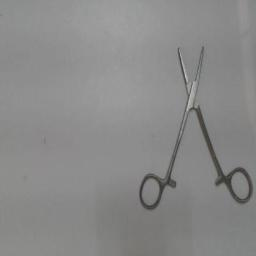Mayo Needle Holder: (136, 36, 254, 212)
